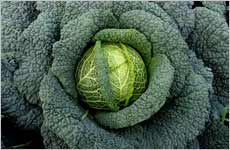cabbage: (75, 26, 159, 120)
